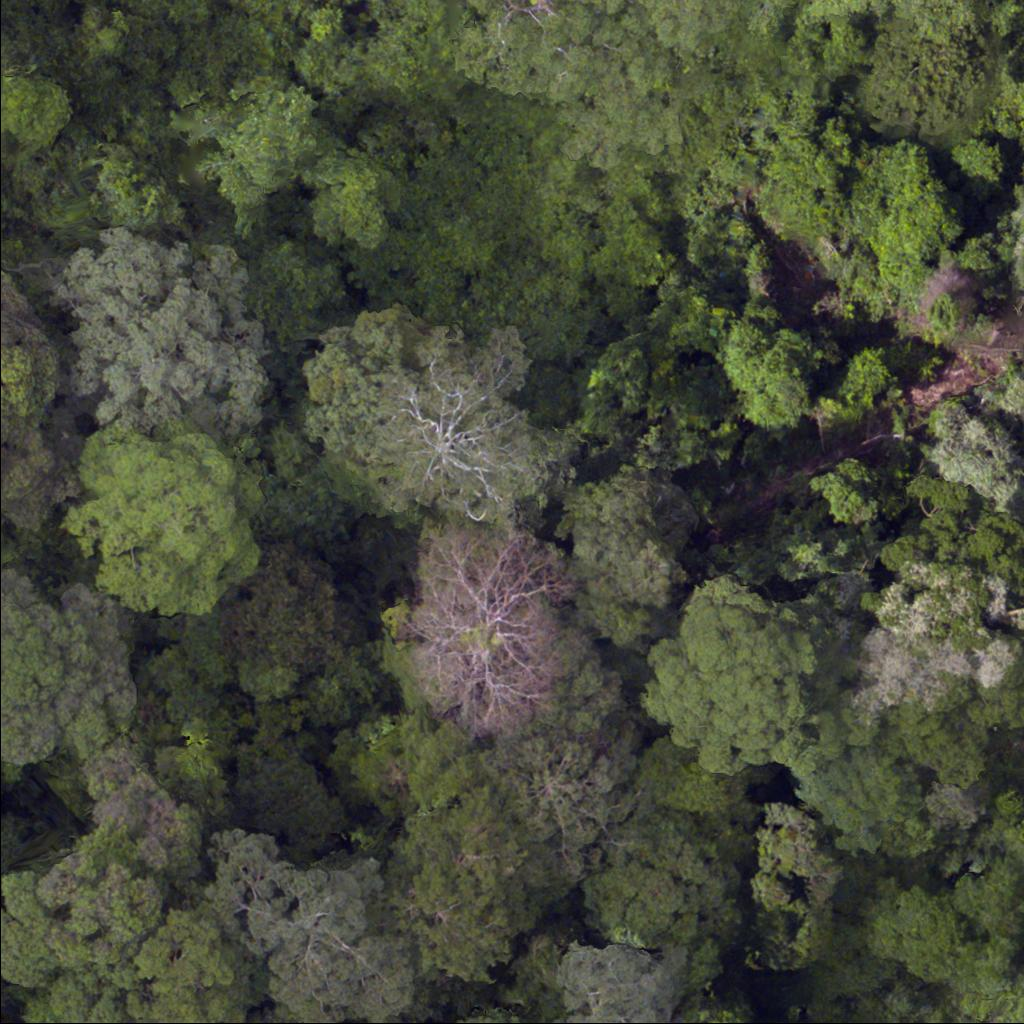crown: (313, 317, 558, 534), (378, 738, 579, 993), (443, 0, 740, 167), (64, 235, 261, 431), (210, 835, 411, 1023), (493, 631, 633, 874), (415, 535, 579, 741), (171, 47, 359, 225), (75, 427, 253, 614), (552, 459, 717, 651), (652, 592, 812, 770), (838, 0, 1009, 147), (589, 785, 734, 946), (0, 277, 57, 525), (751, 808, 836, 965), (564, 945, 682, 1023), (749, 0, 970, 39), (0, 67, 82, 160), (640, 740, 741, 808), (475, 1019, 504, 1023)
